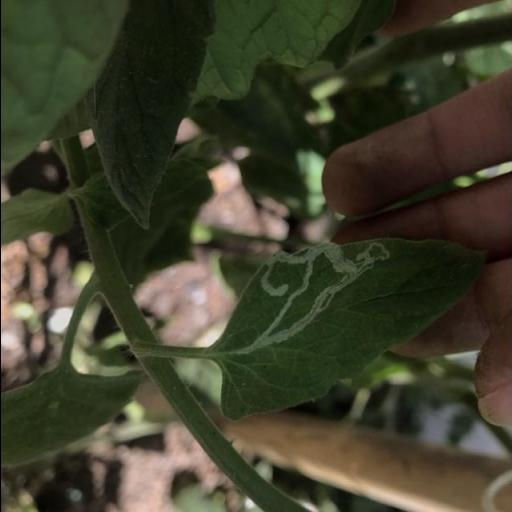disease_tomato: (216, 234, 494, 422)
